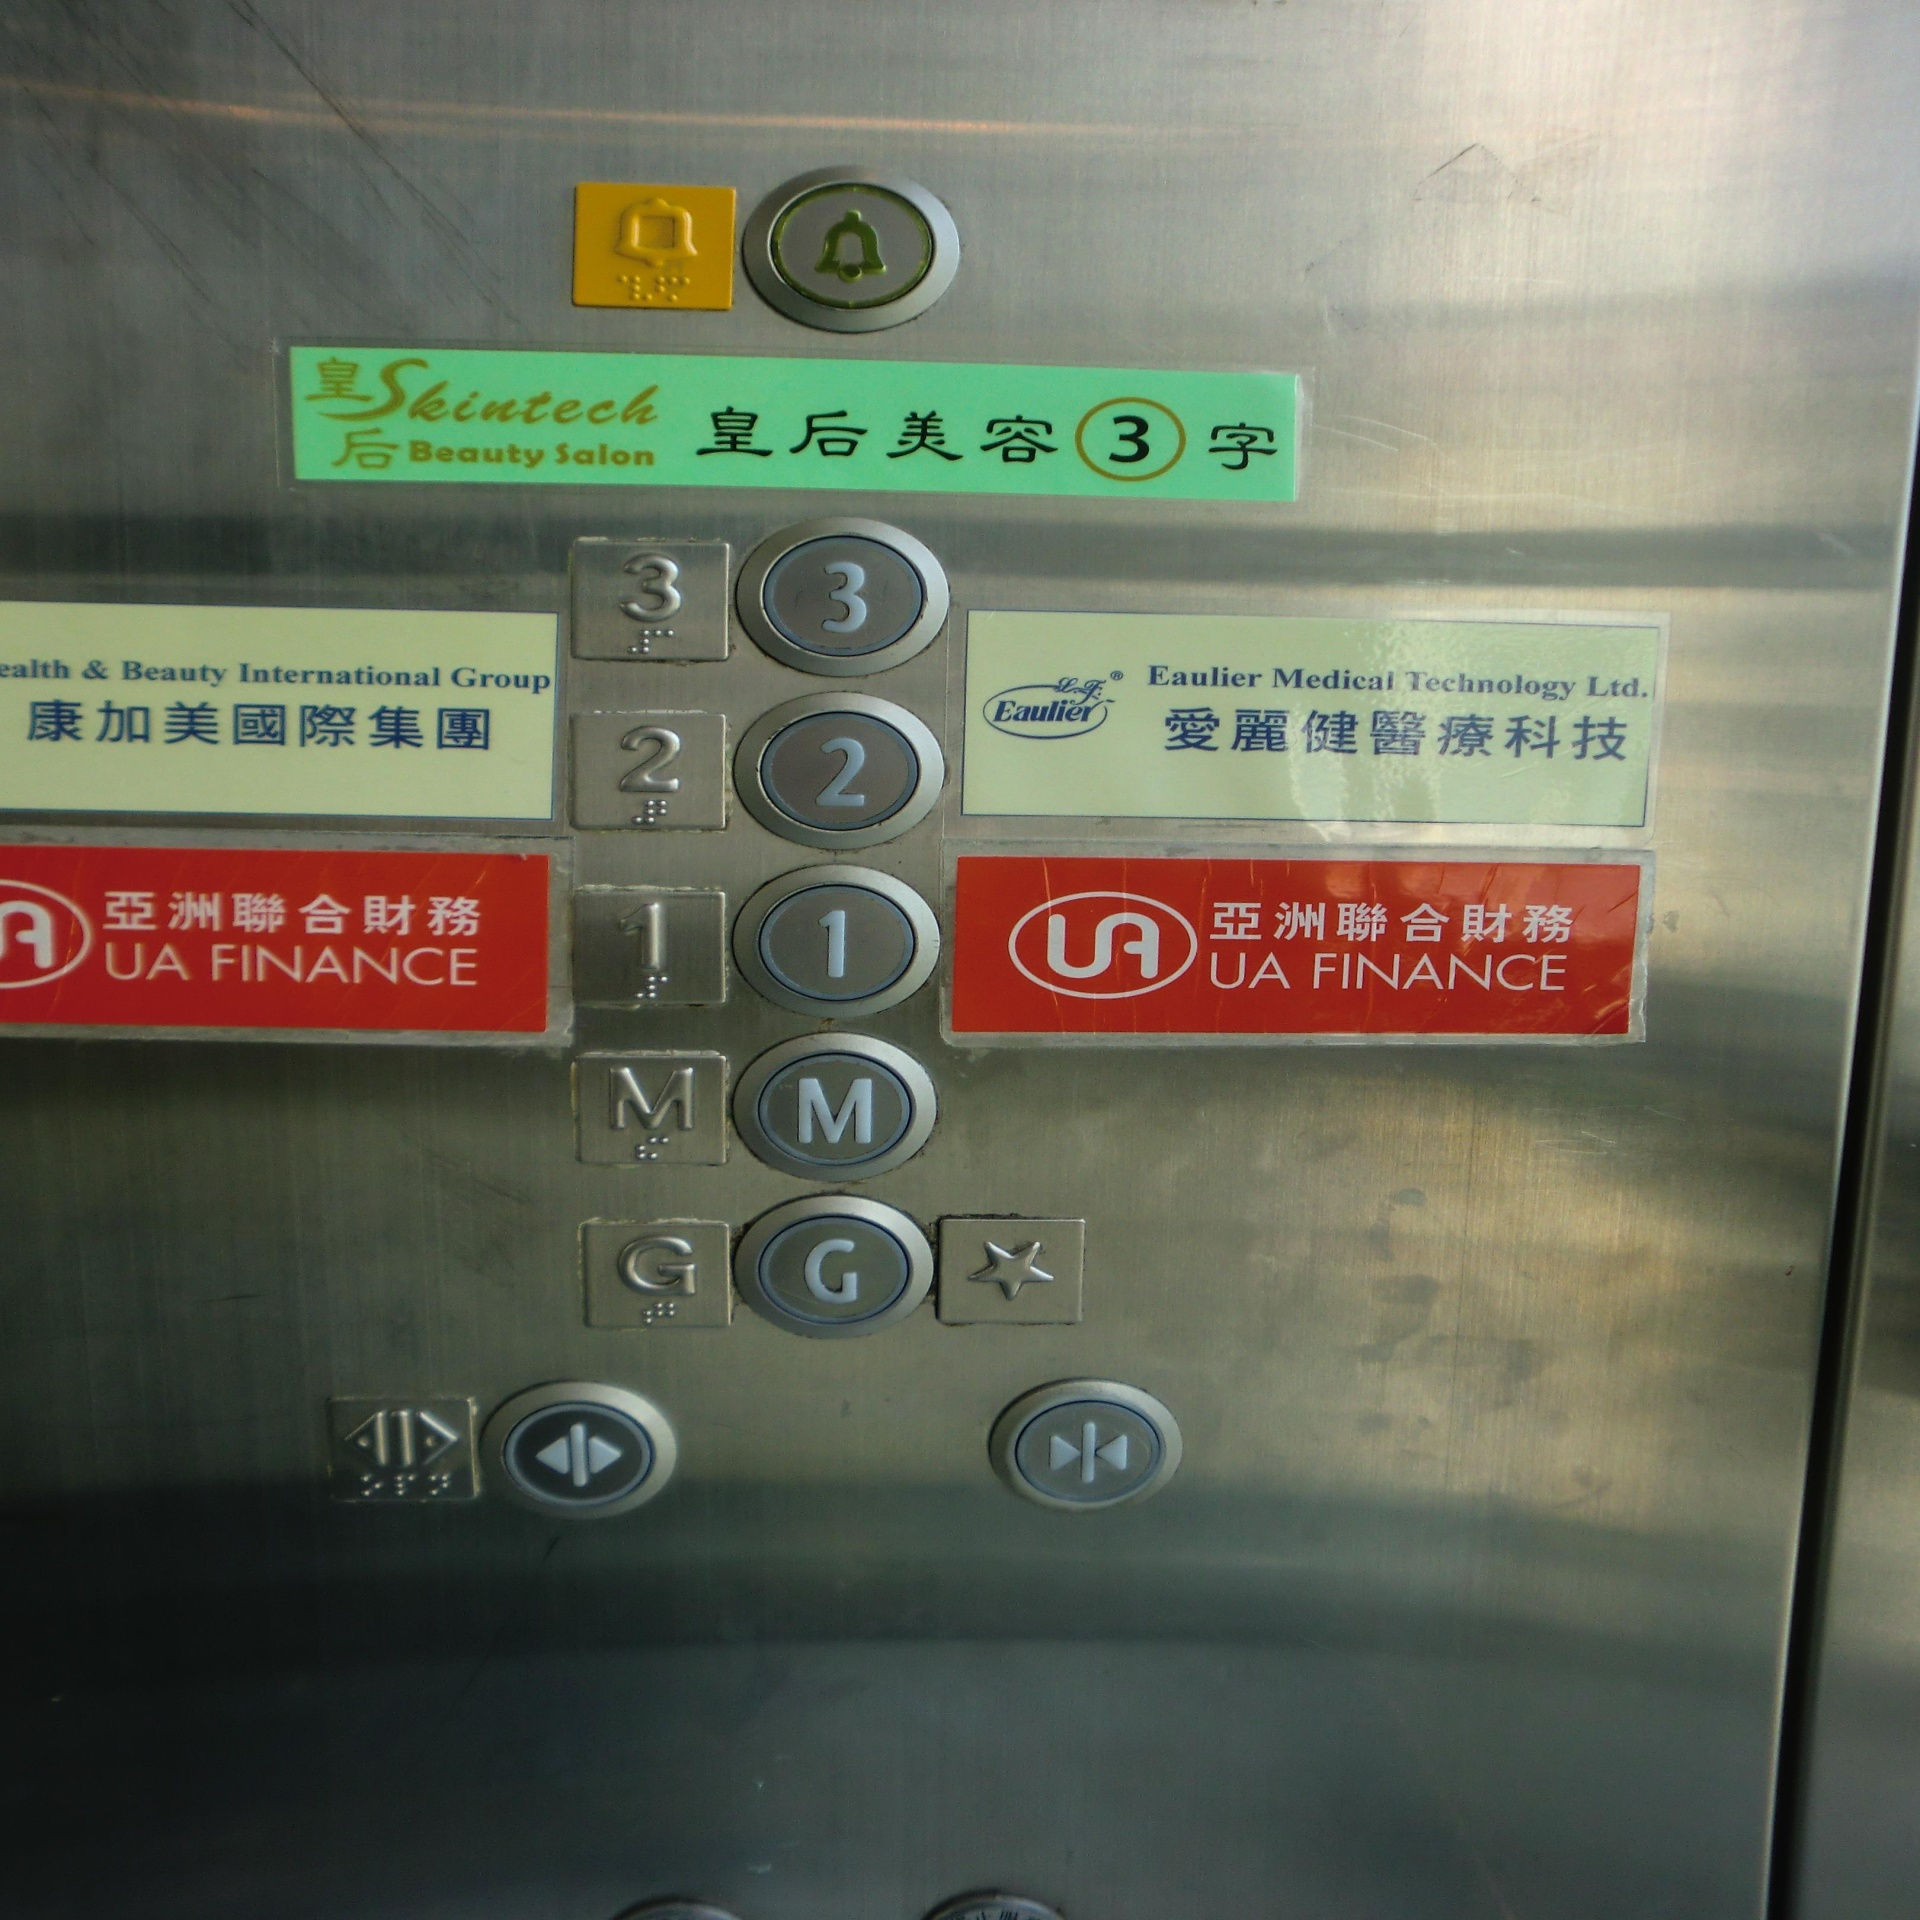1: (728, 856, 948, 1029), (559, 879, 731, 1015)
2: (731, 684, 951, 855), (561, 702, 733, 837)
3: (735, 512, 955, 682), (563, 531, 735, 666)
G: (728, 1189, 934, 1347), (575, 1210, 735, 1335)
M: (730, 1027, 944, 1187), (563, 1044, 731, 1175)
alarm: (738, 158, 967, 339), (564, 174, 740, 316)
close: (979, 1370, 1189, 1519)
open: (485, 1377, 680, 1530), (322, 1387, 484, 1509)
s: (932, 1210, 1092, 1331)
